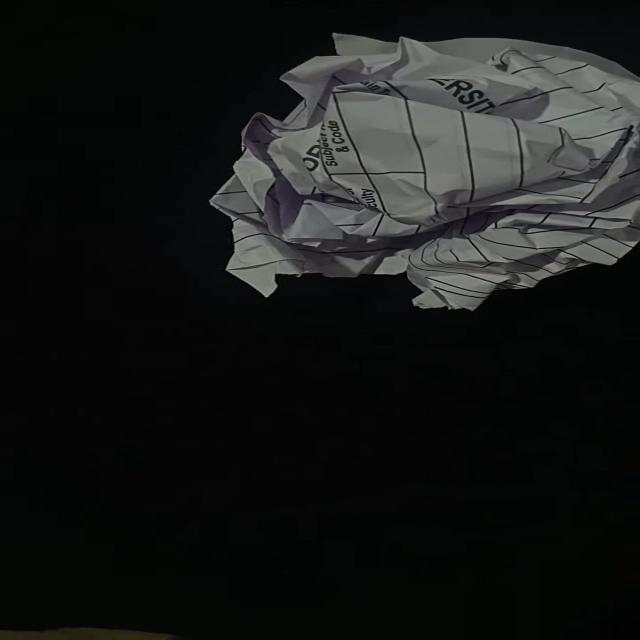PaperBall: (211, 35, 639, 308)
